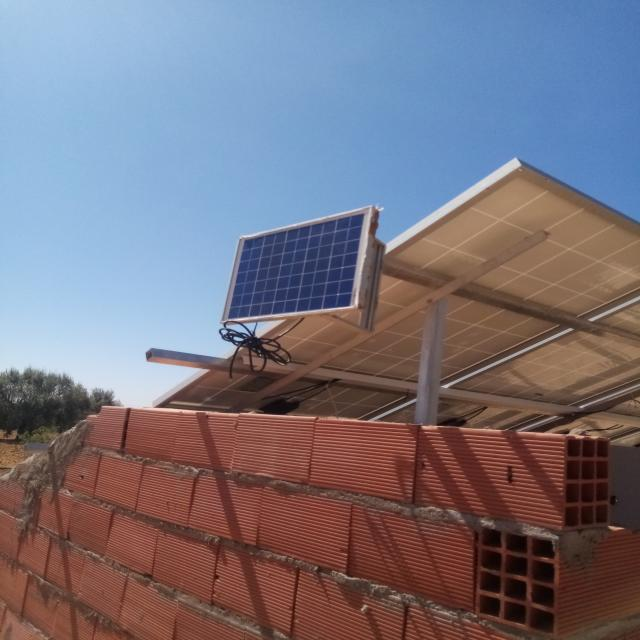no faulty: (222, 207, 371, 322)
